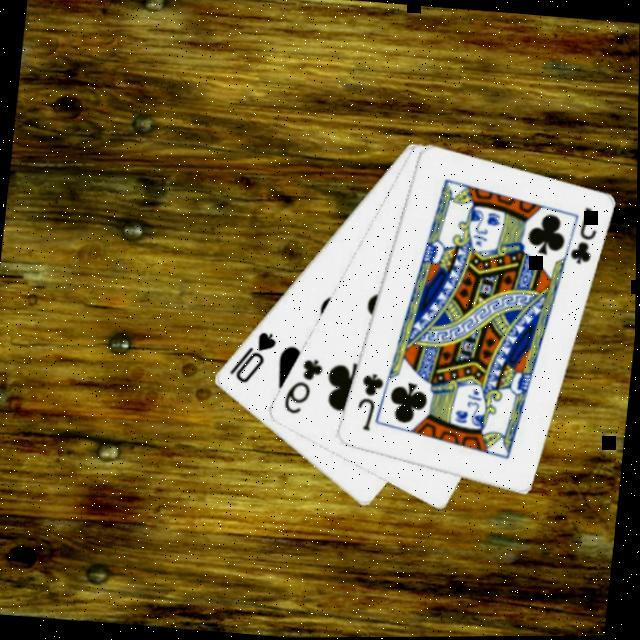10S: (228, 326, 282, 389)
6C: (282, 354, 328, 420)
JC: (567, 204, 603, 270), (353, 371, 389, 436)
